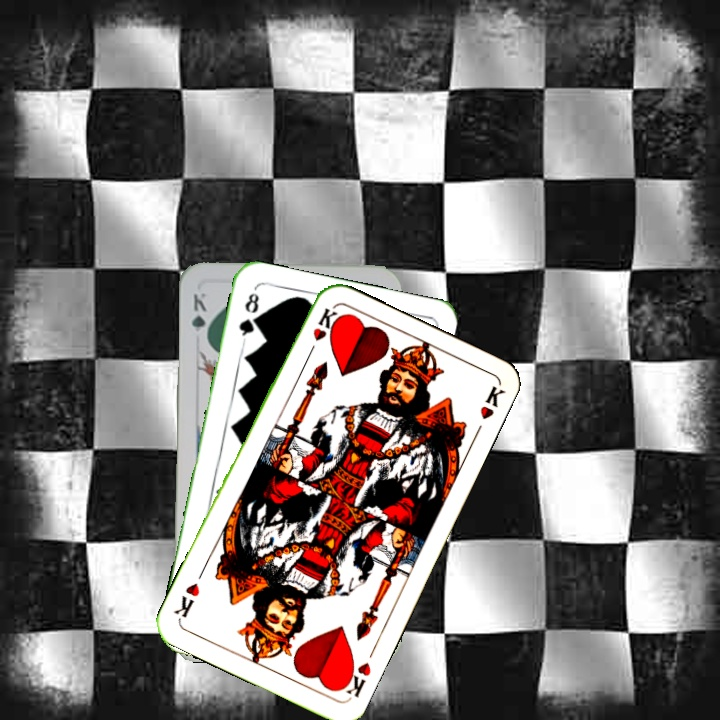G8: (234, 289, 262, 344)
GK: (188, 289, 210, 346)
HK: (303, 303, 340, 360), (335, 657, 374, 700)
